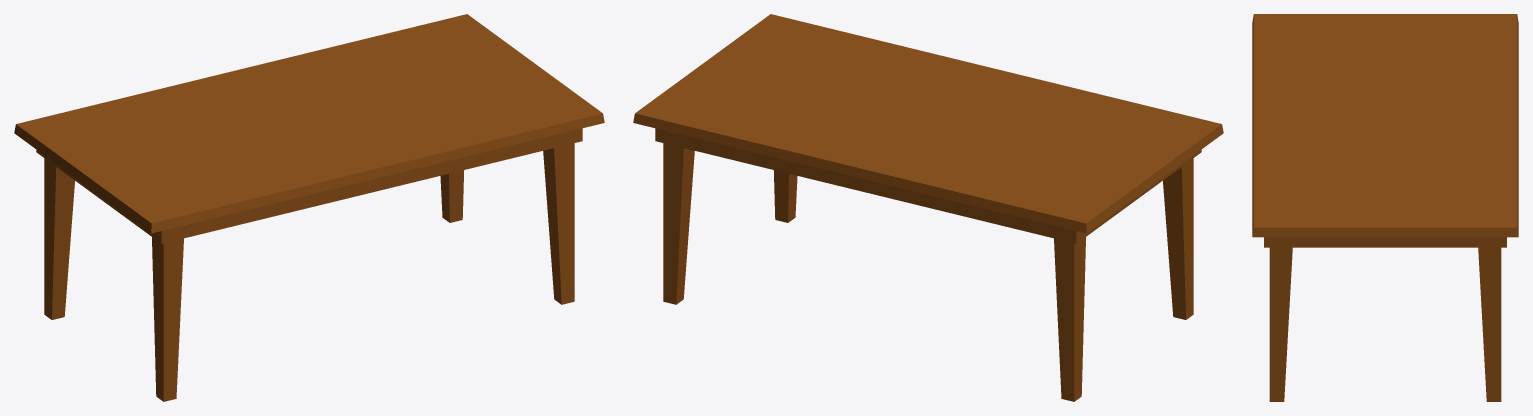
Rendered from Table.glb.
3 views of the same model, side by side, from view 1: azimuth 30°, elevation 25°; view 2: azimuth 150°, elevation 25°; view 3: azimuth 270°, elevation 25° (orthographic). The views are drawn at different scales.
Parts seen in each view (by area): view 1: Table; view 2: Table; view 3: Table.
Part boxes in pixels (<box>): Table: <box>14,14,604,401</box>; Table: <box>633,14,1223,401</box>; Table: <box>1252,14,1518,401</box>.
Bounding box in the file's own units: 3.57 × 1.42 × 1.87.
